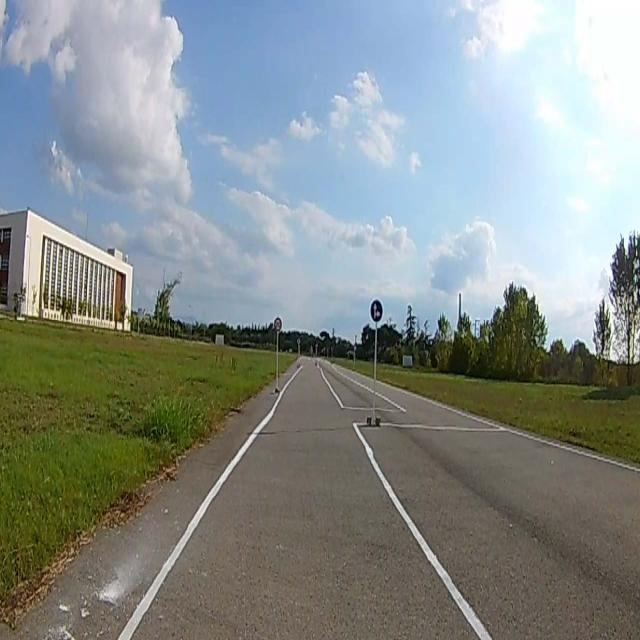ilerisag: (370, 300, 382, 320)
